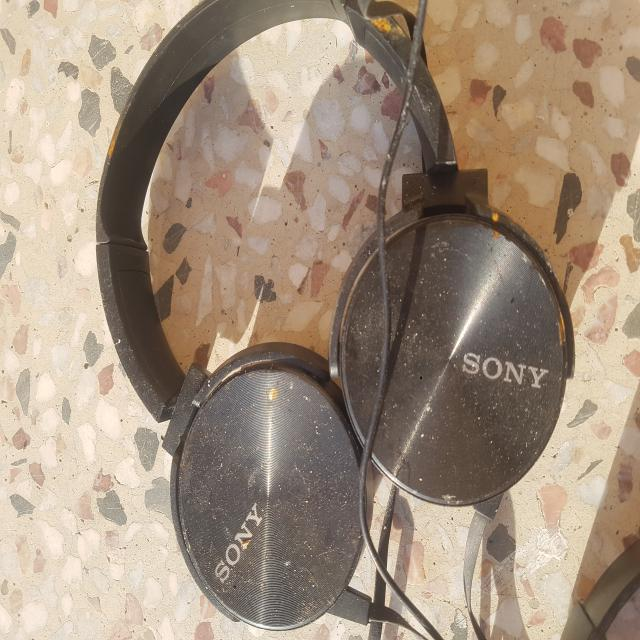electronic: (94, 1, 576, 630)
